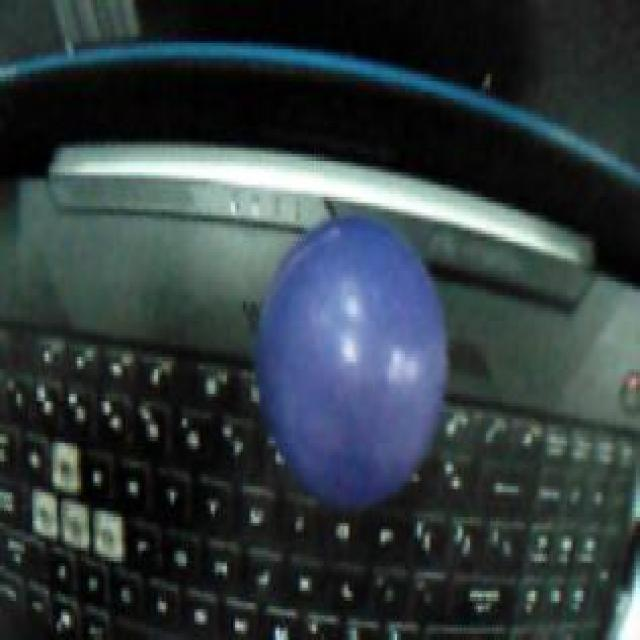BallPurple: (253, 213, 447, 508)
